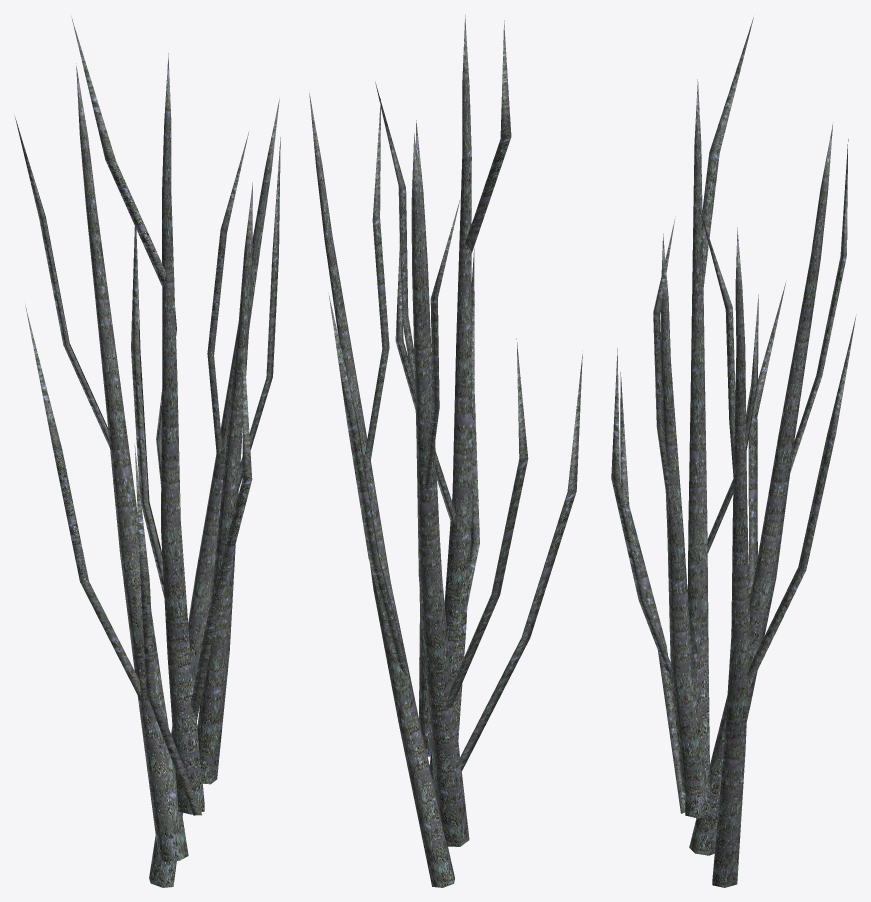
Rendered from Bush_misc_01.obj.
3 renders of one model, left to right at view 1: azimuth 30°, elevation 25°; view 2: azimuth 150°, elevation 25°; view 3: azimuth 270°, elevation 25°, orthographic. The views are drawn at different scales.
Visible parts, largest first — view 1: polySurface676; view 2: polySurface676; view 3: polySurface676.
Boxes of the visible parts, left/top/right/bottom form: polySurface676: left=15, top=16, right=280, bottom=887; polySurface676: left=309, top=14, right=582, bottom=887; polySurface676: left=611, top=17, right=856, bottom=887.
Size of the model in its own units: 17.39 by 63.55 by 16.94.
Materials: 1 (1 with a texture image).
